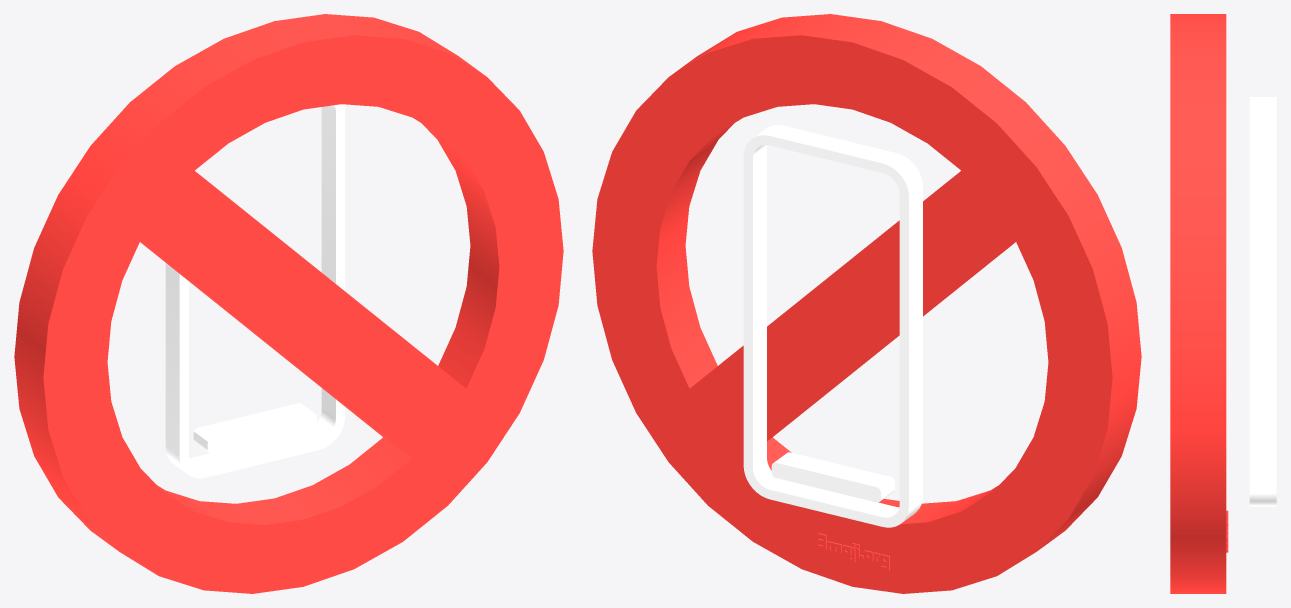
File: no_mobile_phones.gltf
3 renders of one model, left to right at view 1: azimuth 30°, elevation 25°; view 2: azimuth 150°, elevation 25°; view 3: azimuth 270°, elevation 25°, orthographic. The views are drawn at different scales.
Parts seen in each view (by area): view 1: Circle.2626; view 2: Circle.2626; view 3: Circle.2626.
Part boxes in pixels (box(x1,y1,x2,y2)): Circle.2626: box(14, 14, 563, 593); Circle.2626: box(592, 14, 1141, 593); Circle.2626: box(1170, 14, 1276, 593).
Bounding box in the file's own units: 1.92 × 1.92 × 0.3533.
1 material, 1 textured.
